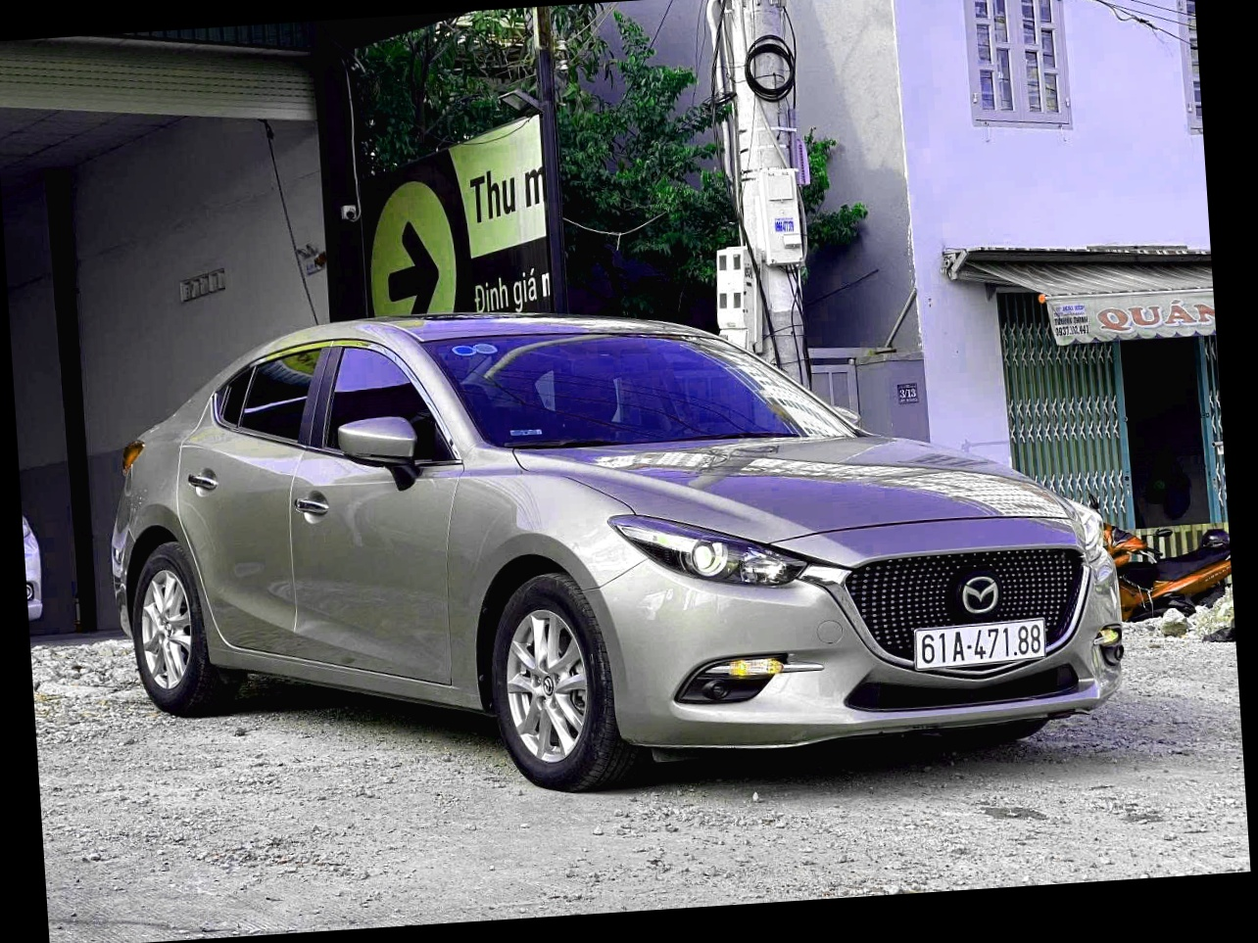Bien-so: (949, 696, 1086, 746)
